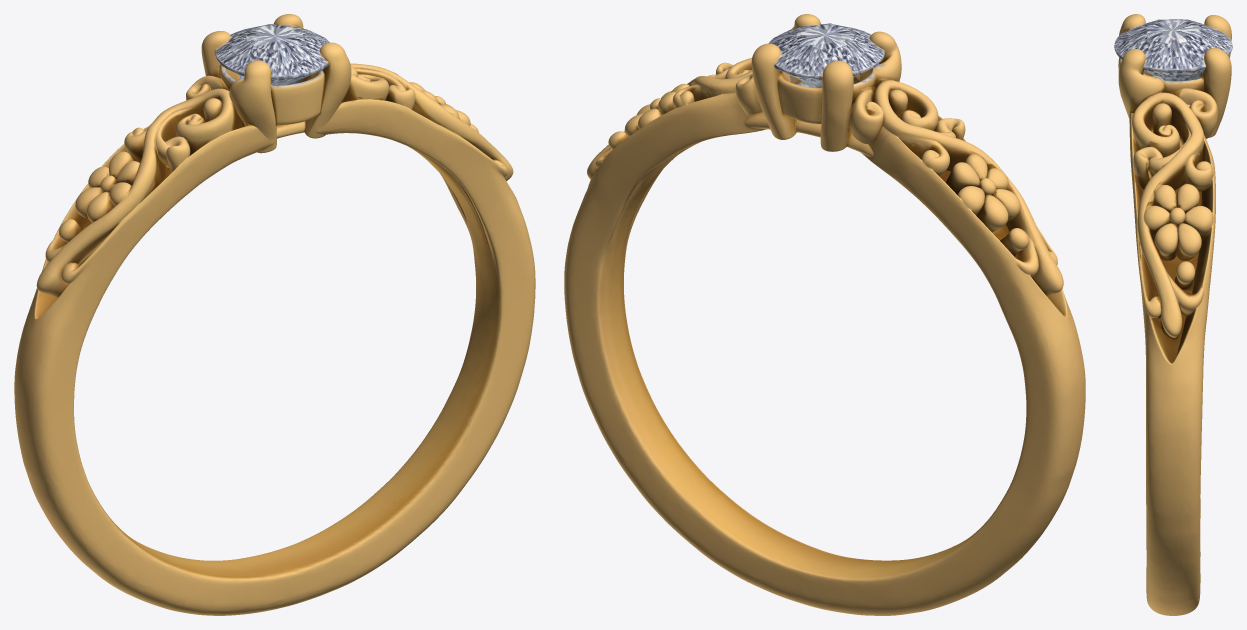
Rendered from solitaire_6.glb.
3 renders of one model, left to right at view 1: azimuth 30°, elevation 25°; view 2: azimuth 150°, elevation 25°; view 3: azimuth 270°, elevation 25°, orthographic. The views are drawn at different scales.
Bounding box in the file's own units: 1.77 × 1.9 × 0.3649.
1 material, 1 textured.
